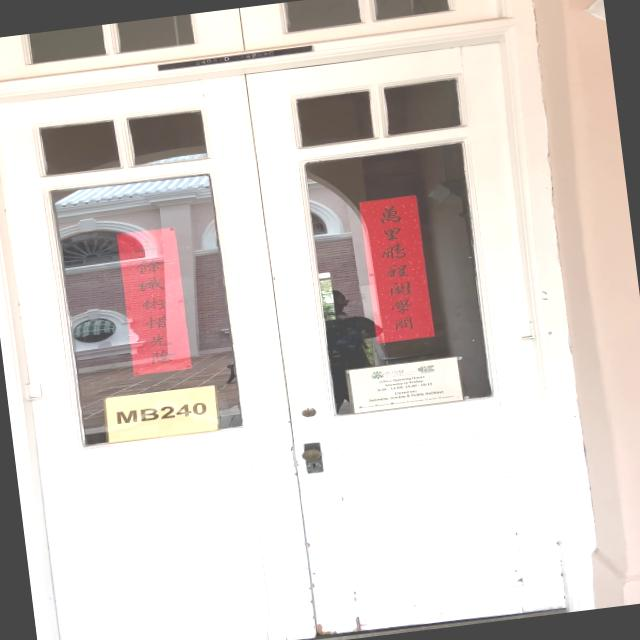room240: (99, 380, 222, 446)
